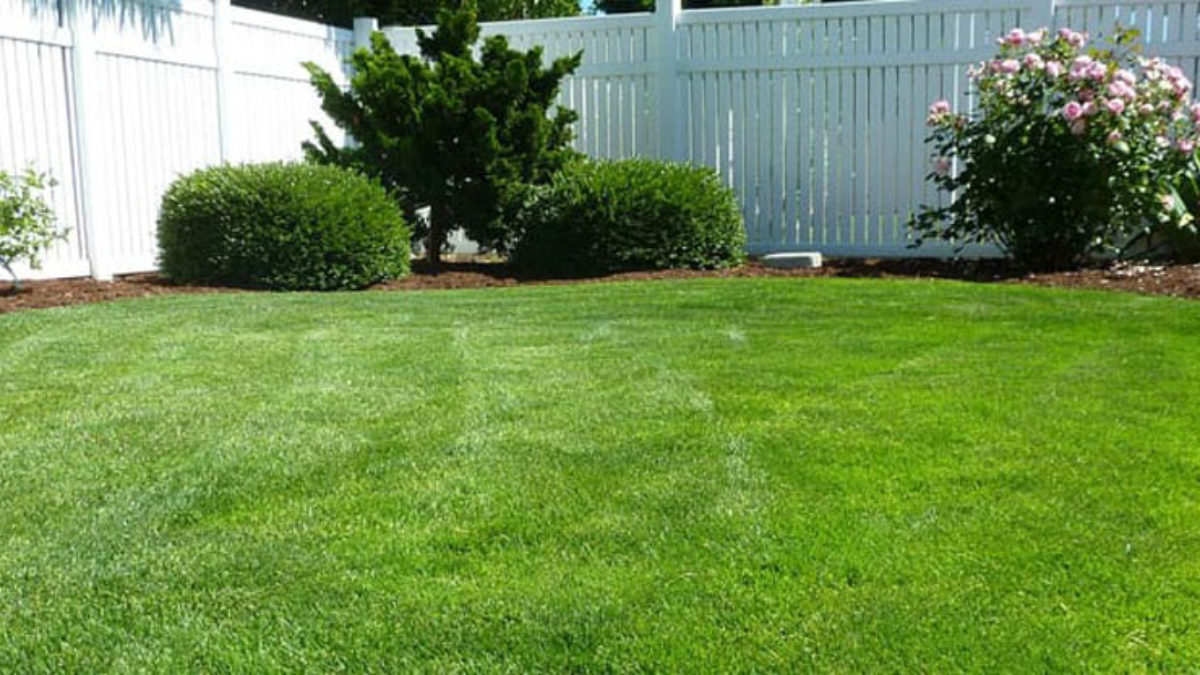grass: (6, 289, 1200, 675)
